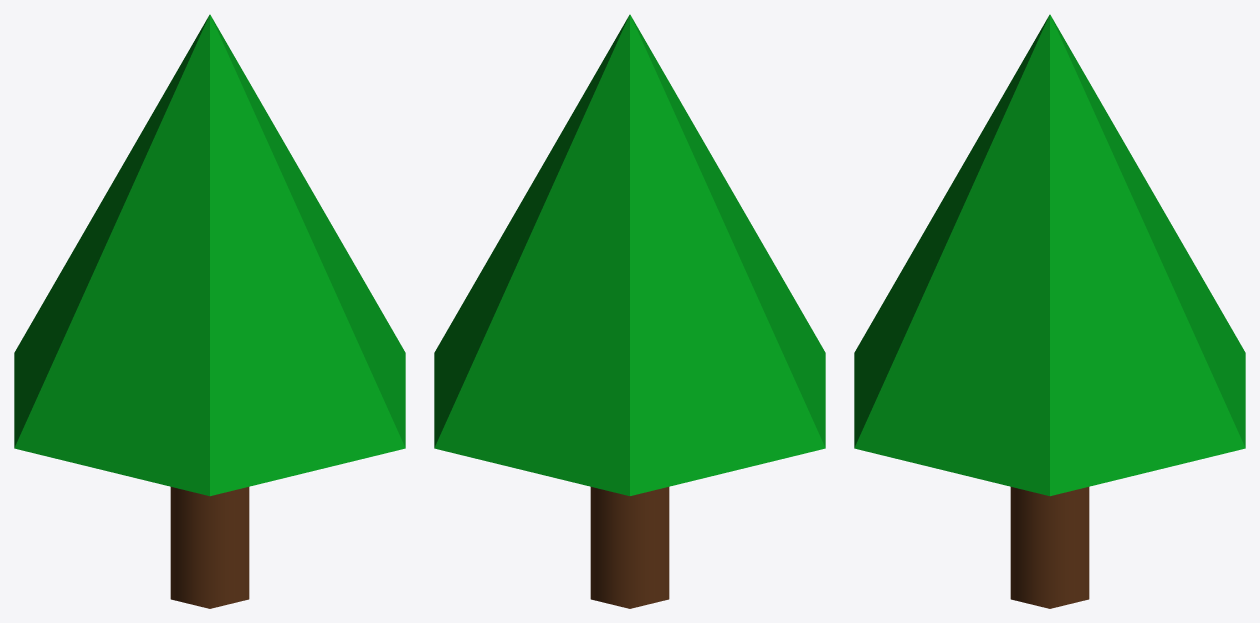
File: Tree.glb
The picture shows the model from 3 angles, left to right: view 1: azimuth 30°, elevation 25°; view 2: azimuth 150°, elevation 25°; view 3: azimuth 270°, elevation 25°; orthographic projection.
Parts seen in each view (by area): view 1: Cylinder001; view 2: Cylinder001; view 3: Cylinder001.
Boxes of the visible parts, x1,y1,x2,y2 form: Cylinder001: (14,14,405,608); Cylinder001: (434,14,825,608); Cylinder001: (854,14,1245,608).
Bounding box in the file's own units: 0.7103 × 0.9982 × 0.6151.
